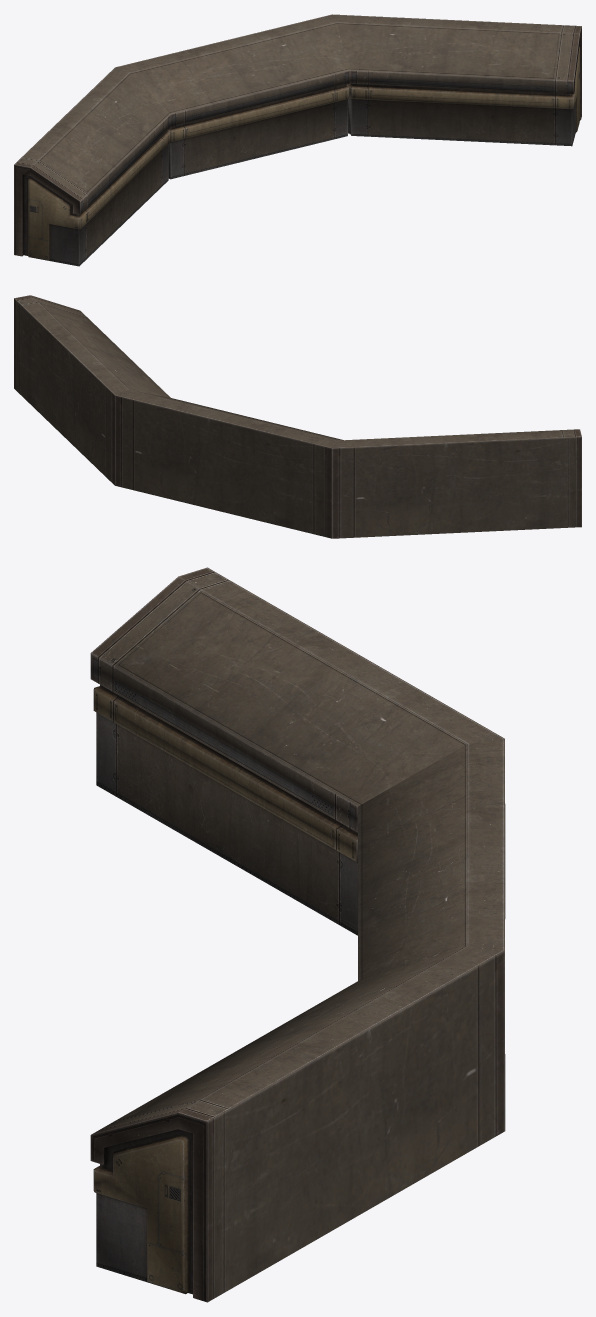
File: computer_parts_chassis_phi_substation.dae
The picture shows the model from 3 angles, top to bottom: view 1: azimuth 30°, elevation 25°; view 2: azimuth 150°, elevation 25°; view 3: azimuth 270°, elevation 25°; orthographic projection. The views are drawn at different scales.
Visible parts, largest first — view 1: chassis_phi_substation; view 2: chassis_phi_substation; view 3: chassis_phi_substation.
Part boxes in pixels (x1,y1,x2,y2): chassis_phi_substation: (14,14,581,266); chassis_phi_substation: (14,295,581,538); chassis_phi_substation: (90,567,505,1302).
Size of the model in its own units: 9.05 by 1.38 by 2.86.
